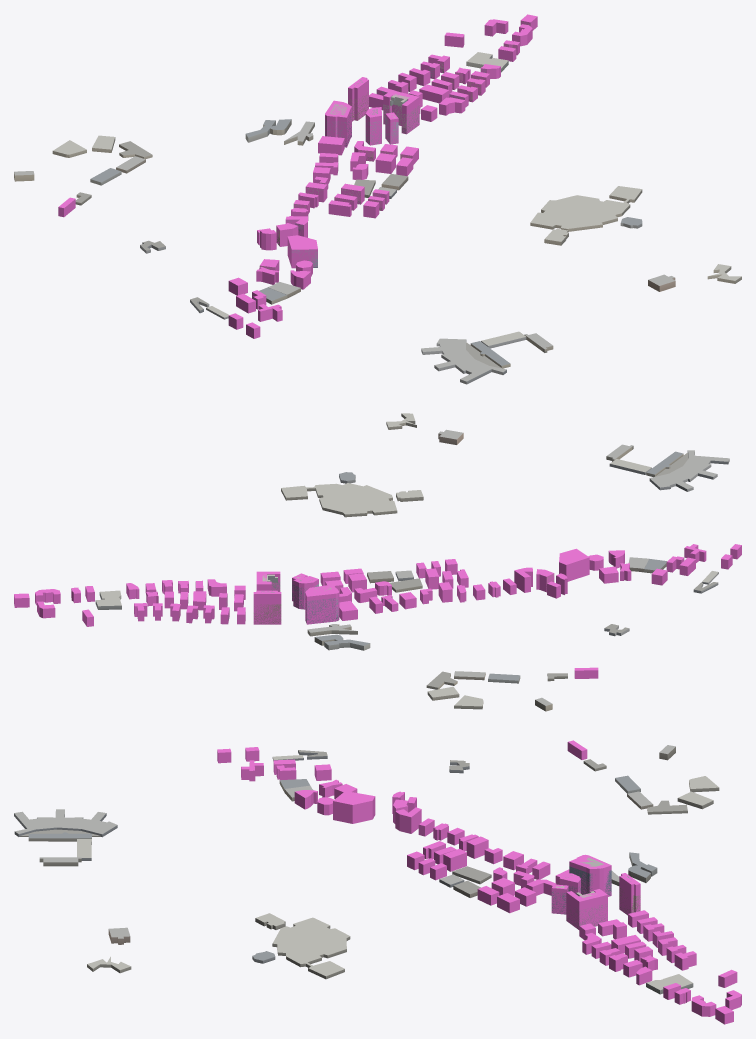
File: bld_18_4.fbx
3 renders of one model, top to bottom at view 1: azimuth 30°, elevation 25°; view 2: azimuth 150°, elevation 25°; view 3: azimuth 270°, elevation 25°, orthographic. The views are drawn at different scales.
Visible parts, largest first — view 1: bld_18_4_COL, bld_18_4_LOD0; view 2: bld_18_4_COL, bld_18_4_LOD0; view 3: bld_18_4_COL, bld_18_4_LOD0.
Boxes of the visible parts, x1,y1,x2,y2 form: bld_18_4_COL: (58, 14, 537, 338); bld_18_4_LOD0: (14, 21, 741, 384); bld_18_4_COL: (14, 544, 741, 678); bld_18_4_LOD0: (95, 413, 729, 711); bld_18_4_COL: (217, 740, 741, 1024); bld_18_4_LOD0: (14, 745, 719, 994).
Size of what is drawn, in the model's own units: 1893 by 107 by 2118.
